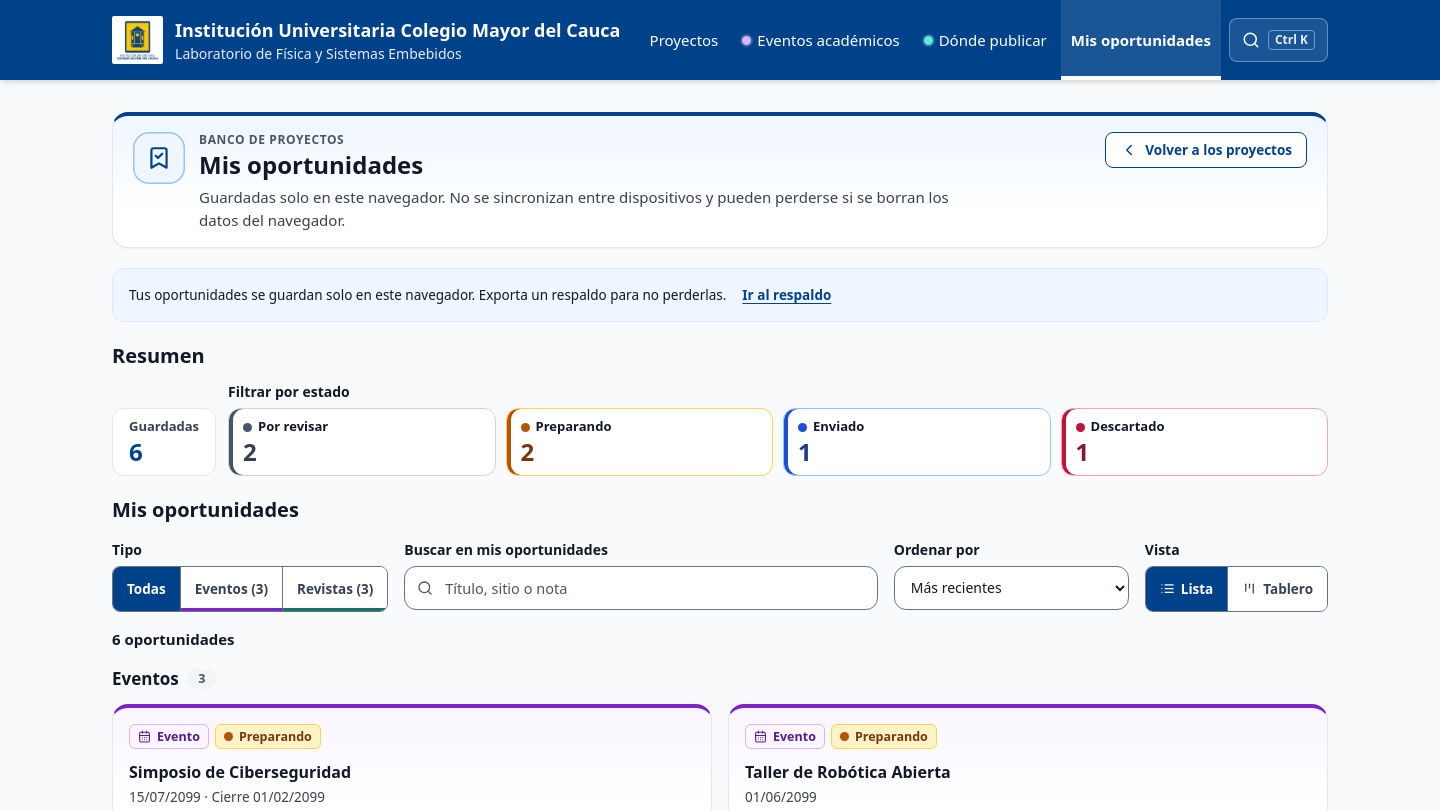
summary by status › «Ver todas» appears with a status filter and resets it
This screenshot has width=1440, height=810.
Expected: the heading "Mis oportunidades" below "Banco de proyectos" is shown, left=199, top=148, right=423, bottom=181
Expected: the button "Ver todas" is not shown
What coordinates should you click on to do the following:
click the button with aria-label "Enviado:"
I would click on:
 (839, 426)
Its box is left=783, top=408, right=1050, bottom=476.
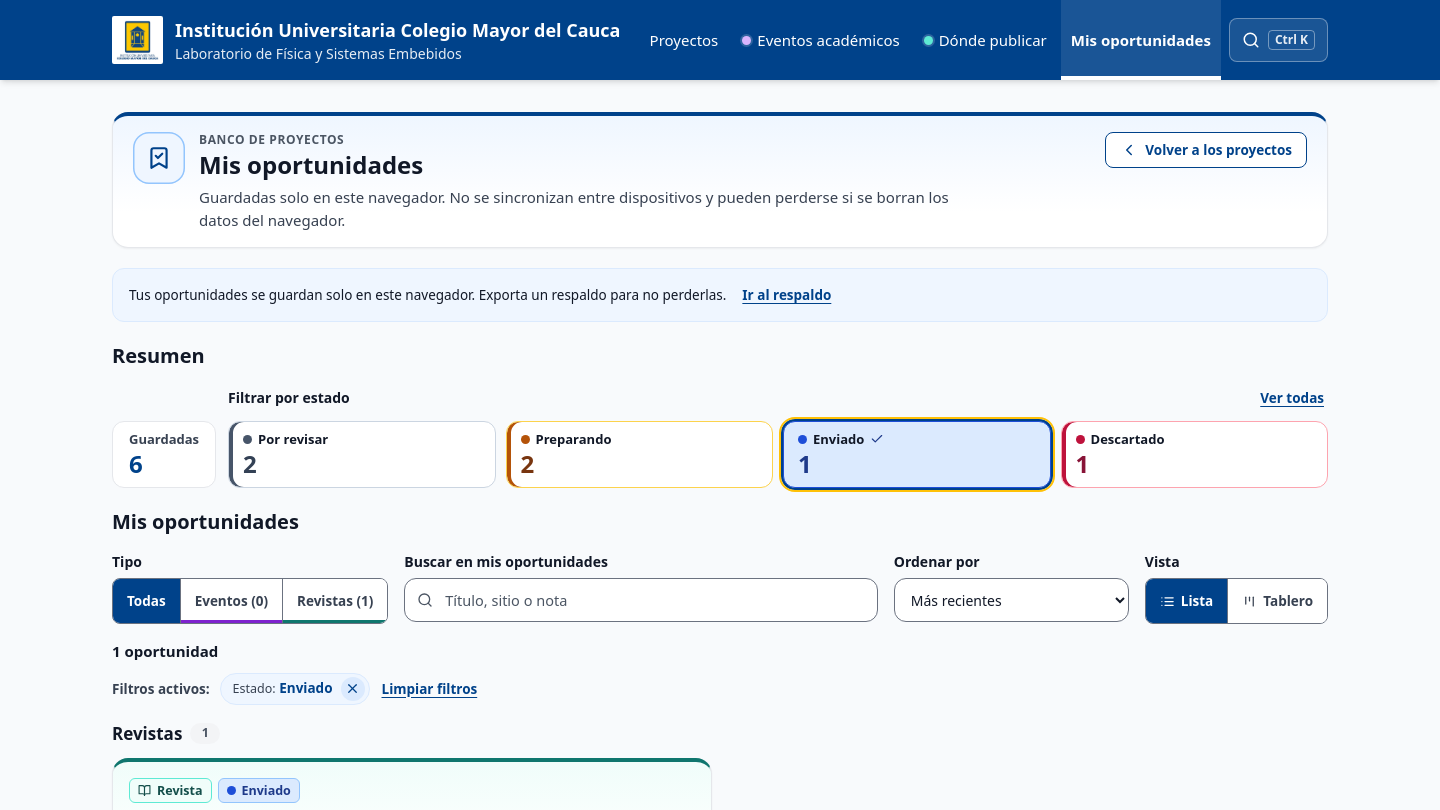
What coordinates should you click on to do the following:
click the button "Ver todas"
I would click on:
 (1292, 398)
Its box is left=1256, top=382, right=1328, bottom=415.
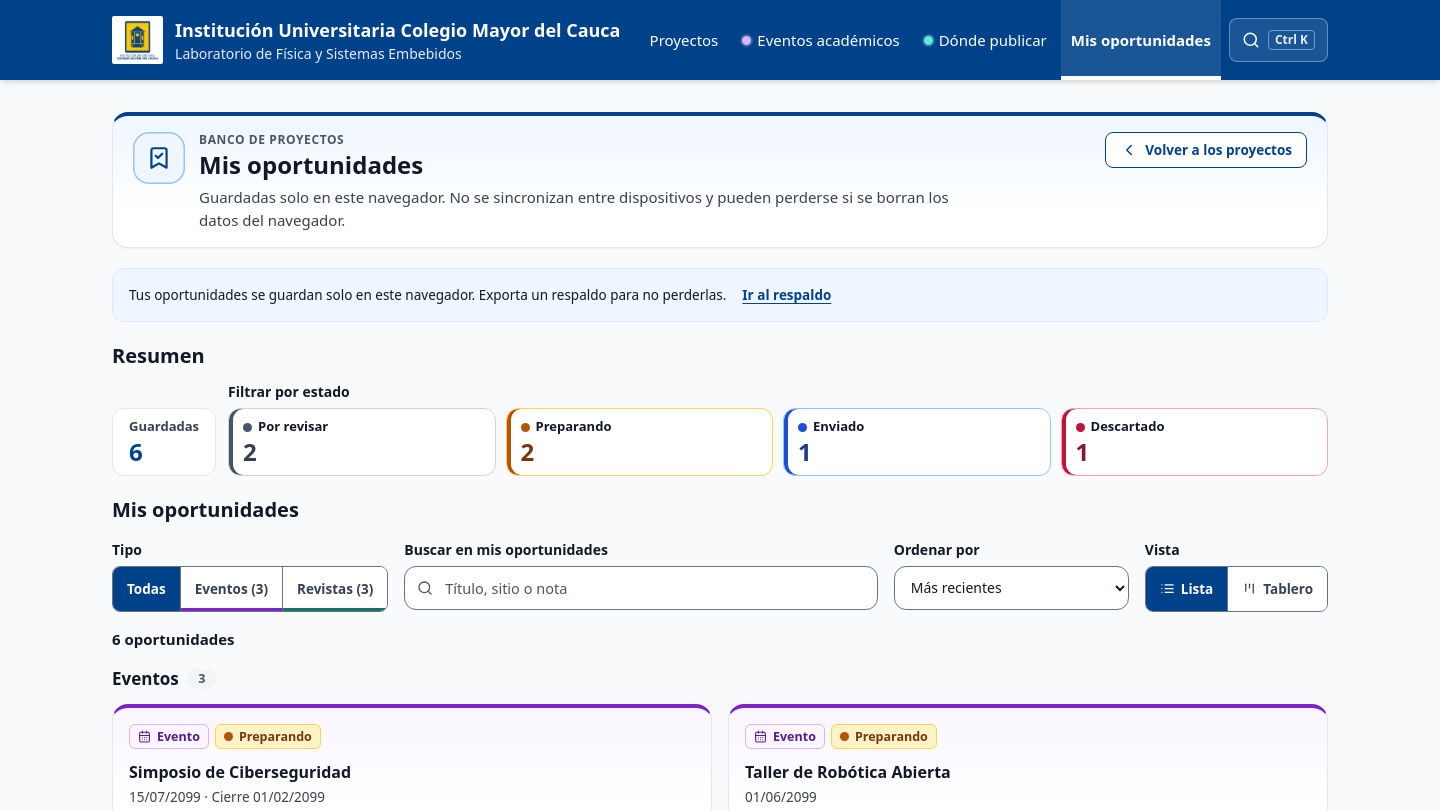
Expected: the button "Ver todas" is gone
